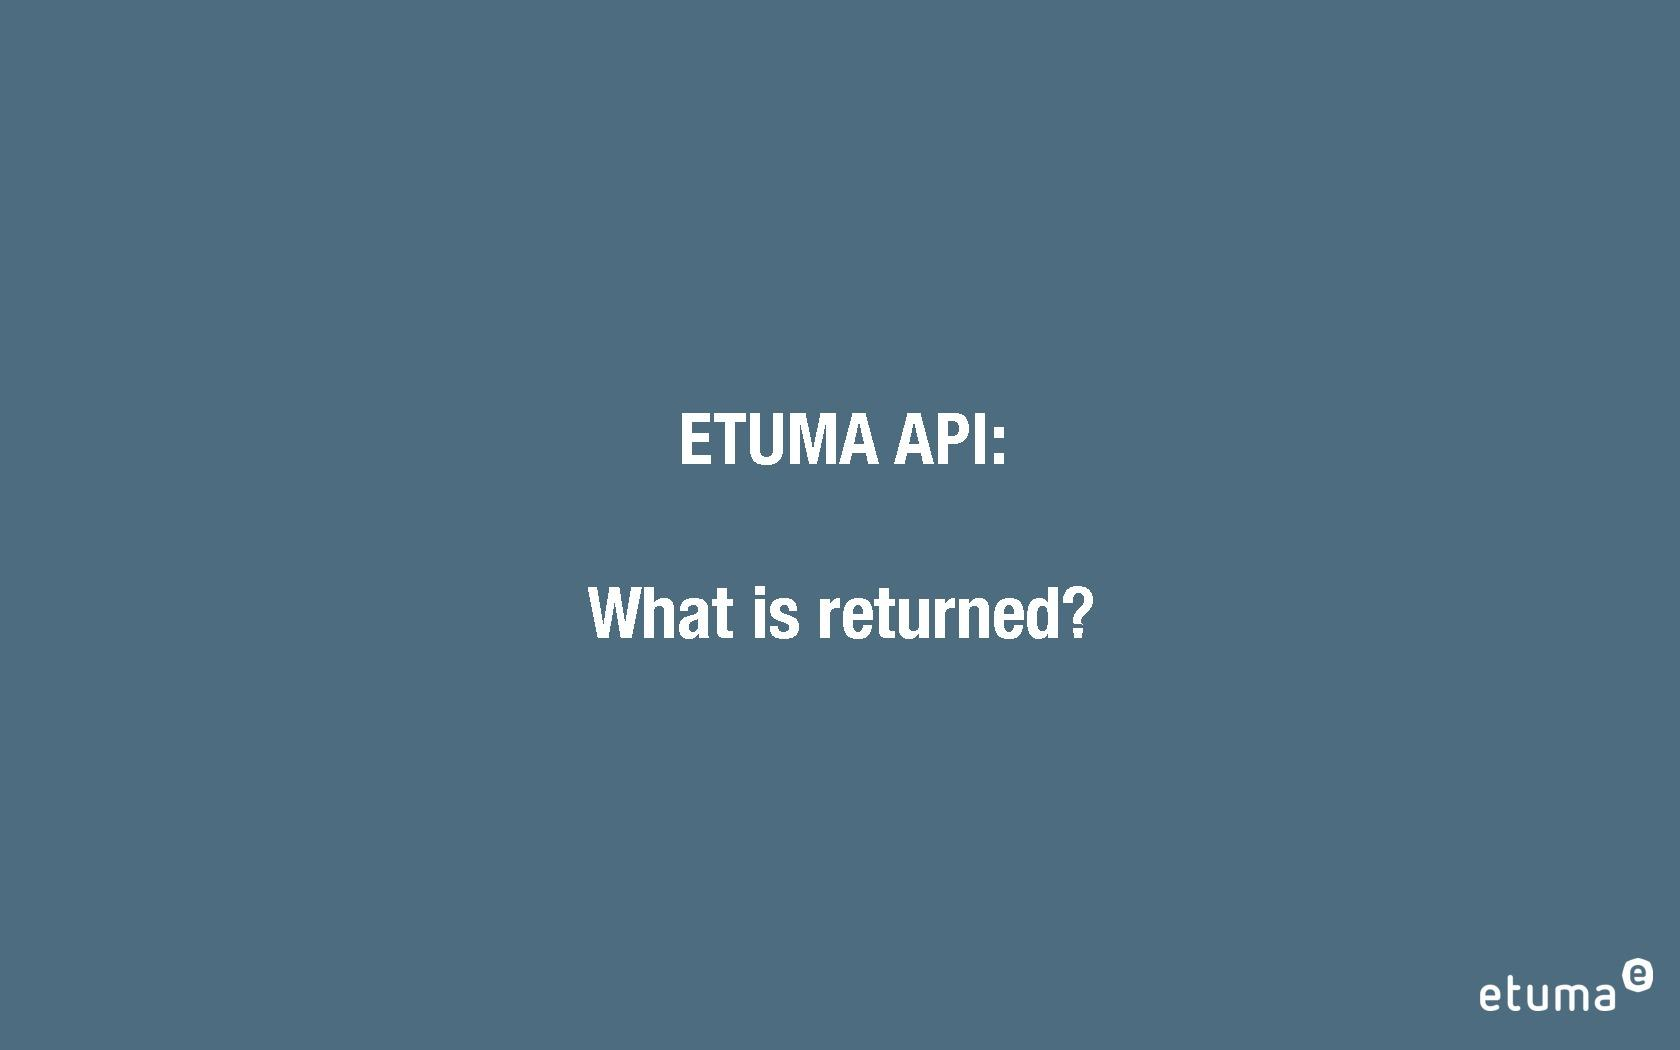title: (535, 365, 1180, 698)
